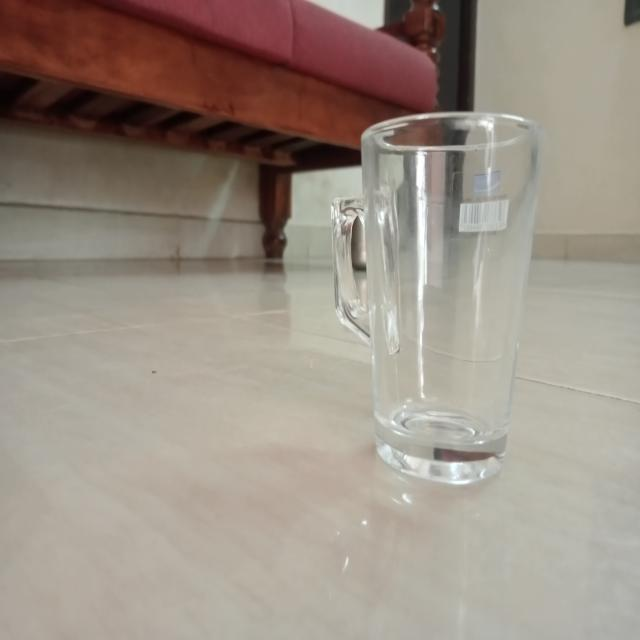glass-VX4N: (333, 111, 561, 504)
